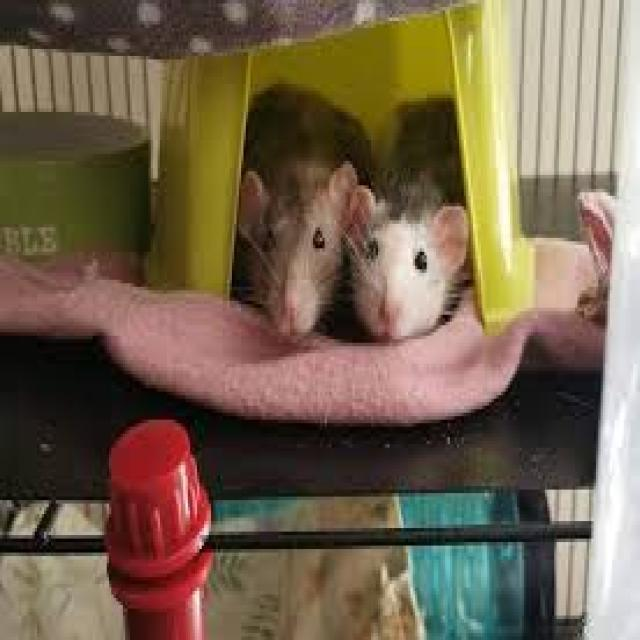Rat: (226, 106, 484, 360)
